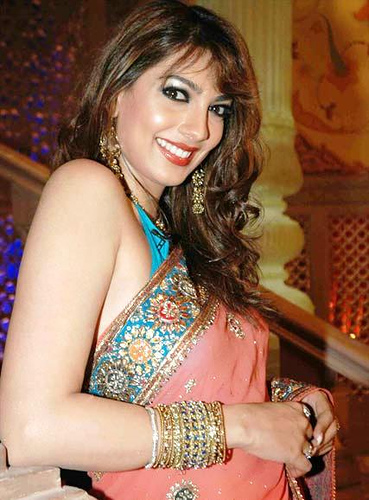without_mask: (115, 36, 232, 193)
